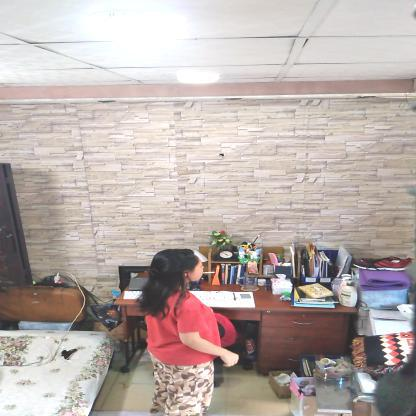cigarette: (202, 271, 216, 274)
person: (136, 248, 228, 415)
